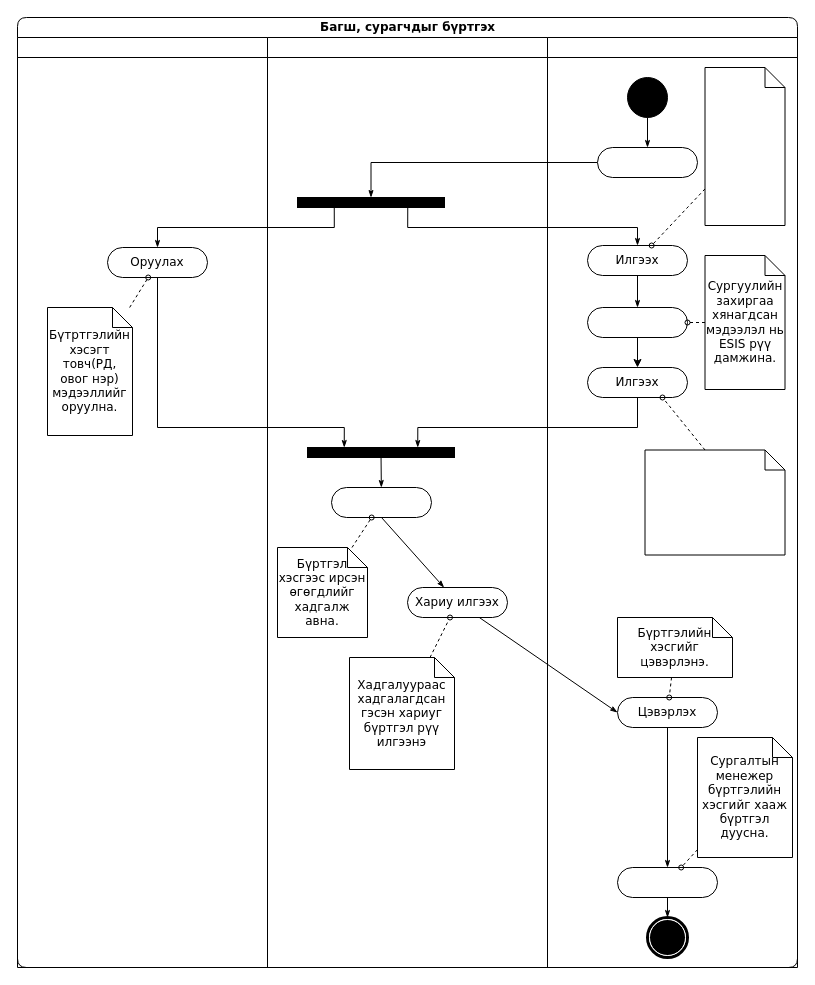
The diagram is 815 pixels wide and 985 high, and some of its shapes have lost their labels. Each missing label, with the centre of its shape:
"ESIS нь тухайн багш, сурагчдын бүрэн бүтэн мэдээллийг бүртгэлийн хэсэгт илгээнэ." goes at pixel 714 502.
"Бүртгэх" goes at pixel 647 162.
"Дамжуулах" goes at pixel 637 322.
"Сургуулийн захиргаа илгээсэн мэдээллийг хянаж дамжих зөвшөөрөл олгоно." goes at pixel 744 146.
"Хаах" goes at pixel 667 882.
"Хадгалах" goes at pixel 381 502.
